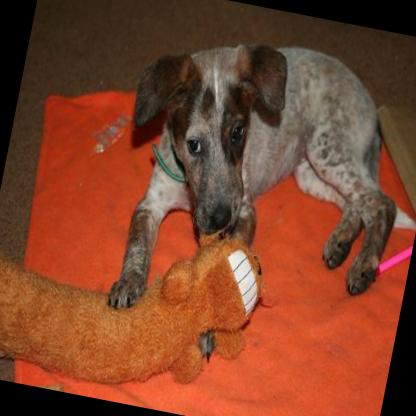kelpie: (93, 16, 416, 354)
